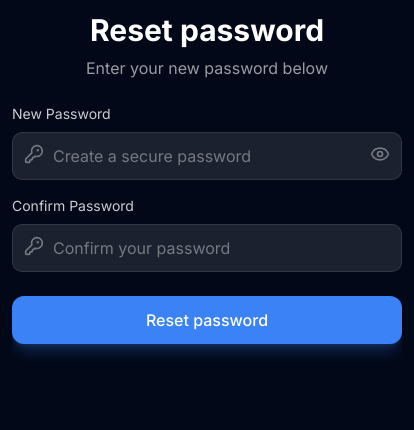
Test: ResetPasswordForm › validates password matching
# Enter different passwords
Type "Password123!@#" into the password field labelled "New Password" at (207, 156), box [12,132,402,180]
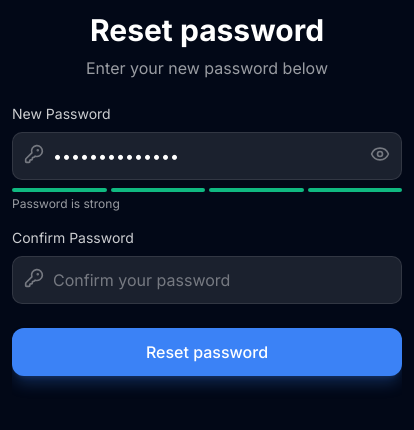
Type "DifferentPassword" into the password field labelled "Confirm Password" at (207, 280), box [12,256,402,304]
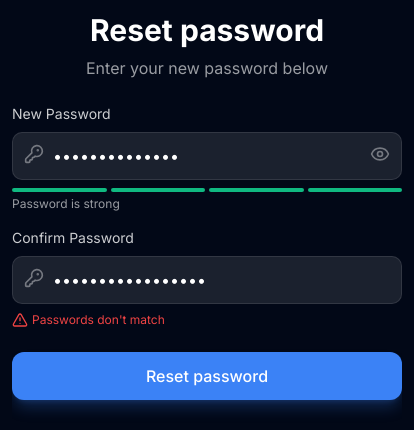
Now the text "Passwords don't match" is shown, box [32,312,165,328]
# Enter matching passwords
Type "Password123!@#" into the password field labelled "Confirm Password" at (207, 280), box [12,256,402,304]
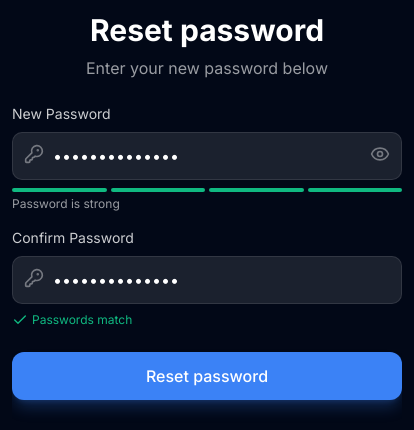
Now the text "Passwords match" is shown, box [32,312,132,328]
